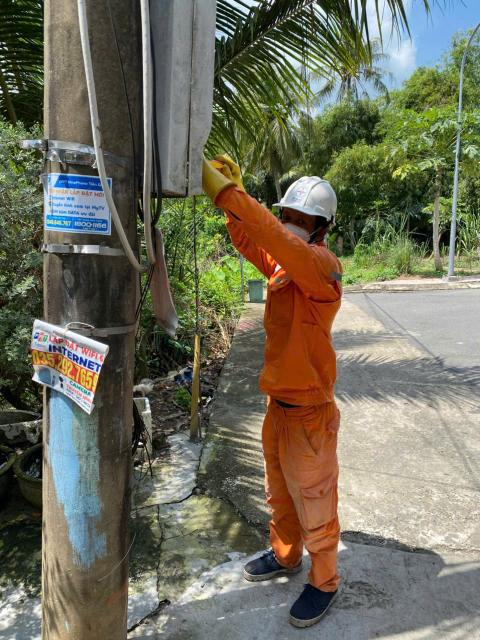gloves: (184, 140, 224, 200), (204, 144, 251, 195)
helmet: (273, 174, 342, 229)
shoes: (277, 560, 338, 629), (225, 537, 303, 579)
